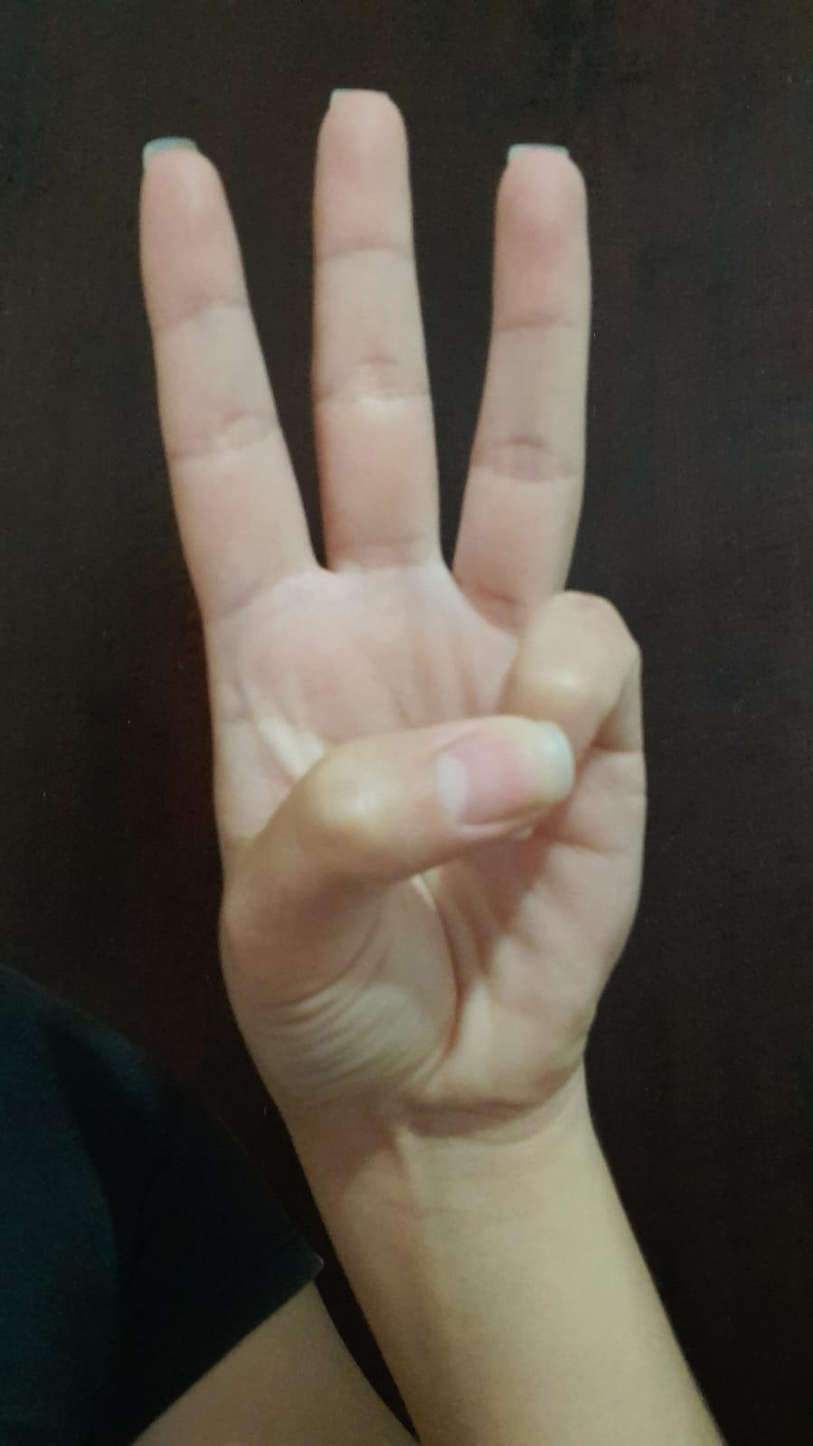W: (104, 77, 692, 1121)
